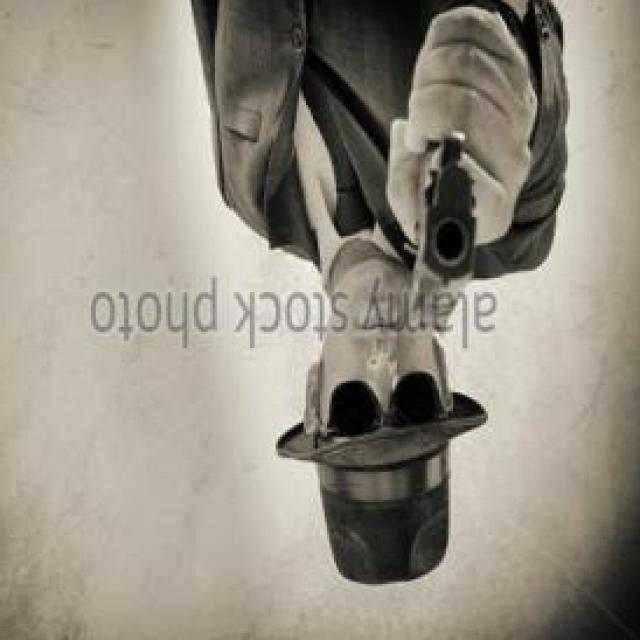pistol: (409, 133, 469, 332)
